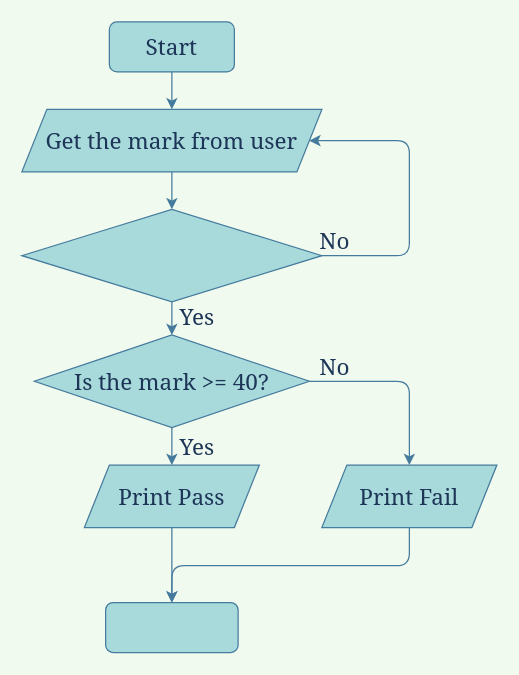
This 519x675 diagram has some shape labels left out. Here are the shapes that lost their labels. From the top down, the centre of each, then its label:
At point 171,255: "Is the mark a number?".
At point 171,626: "End".
